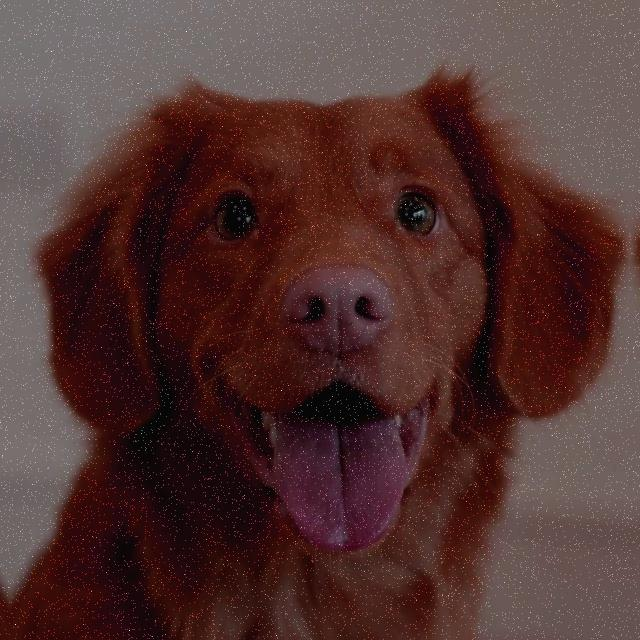dog: (25, 29, 617, 555)
